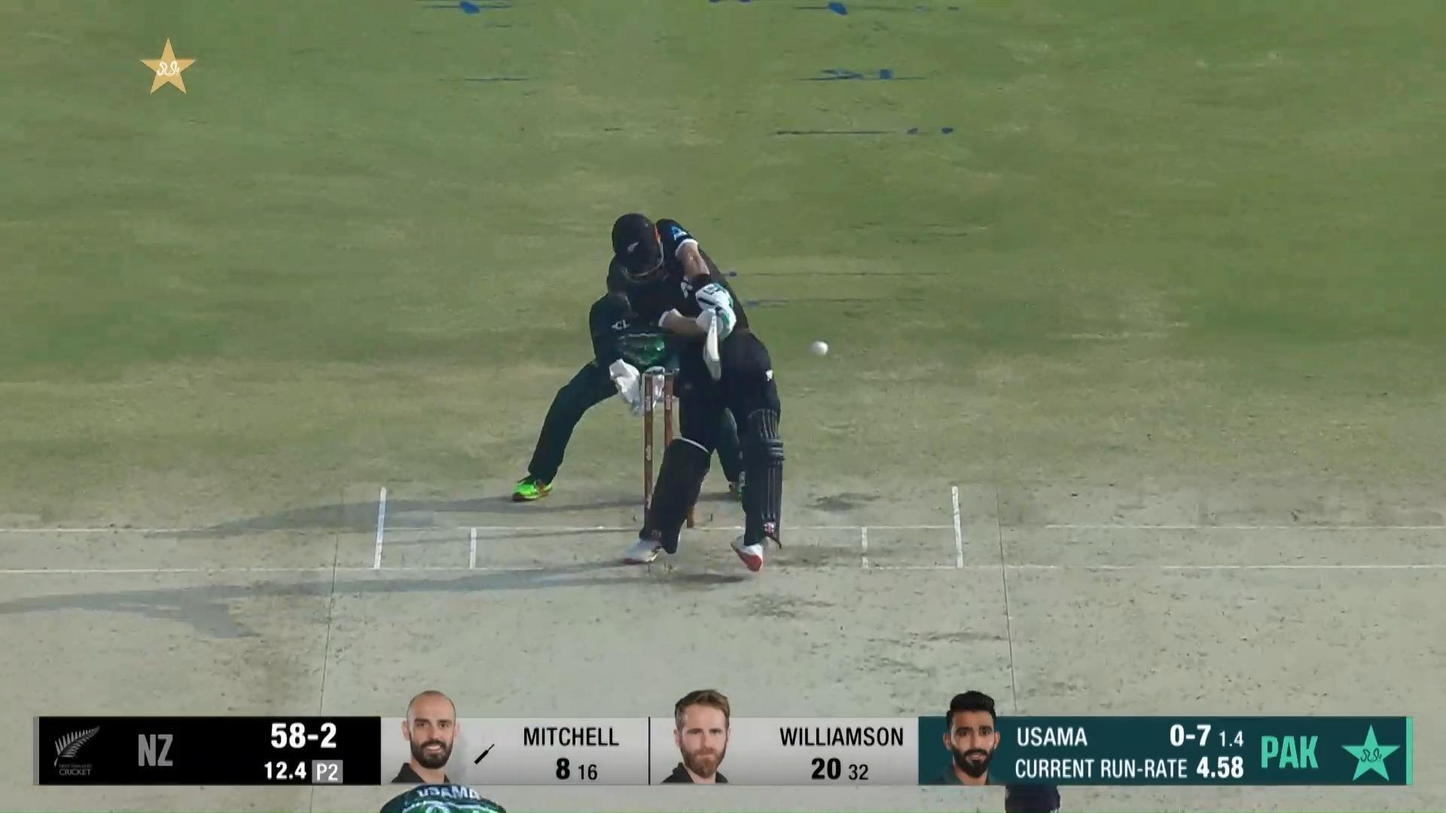BM 1: (607, 212, 787, 574)
BO: (379, 728, 506, 813)
